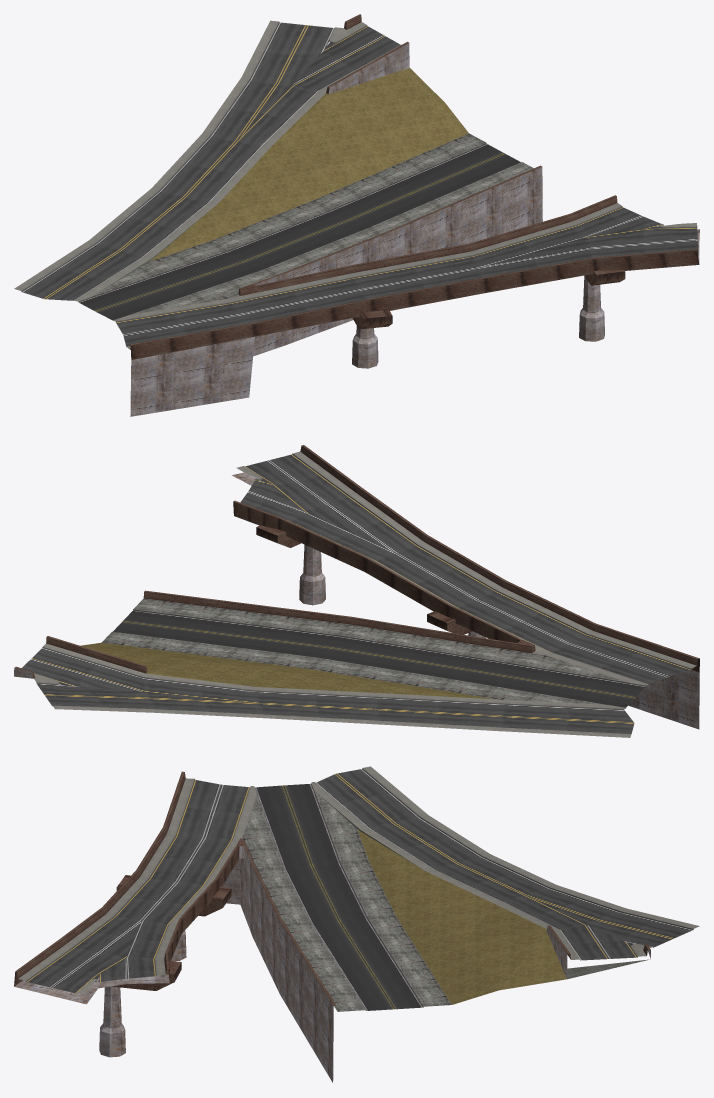
The model's file is freeway2_lan2.obj.
3 views of the same model, one above another, from view 1: azimuth 30°, elevation 25°; view 2: azimuth 150°, elevation 25°; view 3: azimuth 270°, elevation 25° (orthographic). The views are drawn at different scales.
Visible parts, largest first — view 1: Freeway2_LAn2; view 2: Freeway2_LAn2; view 3: Freeway2_LAn2.
Part boxes in pixels (box(x1,y1,x2,y2)): Freeway2_LAn2: box(14, 14, 699, 416); Freeway2_LAn2: box(14, 445, 699, 737); Freeway2_LAn2: box(14, 766, 699, 1082).
Size of the model in its own units: 110 by 23.14 by 119.
